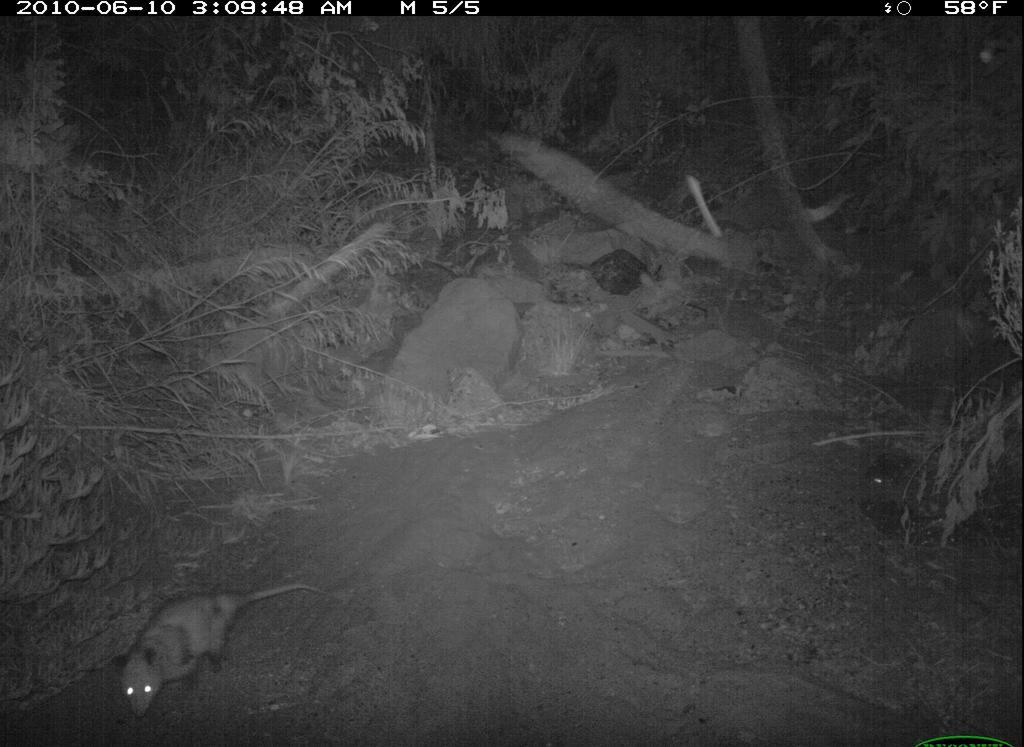opossum: (102, 562, 337, 720)
